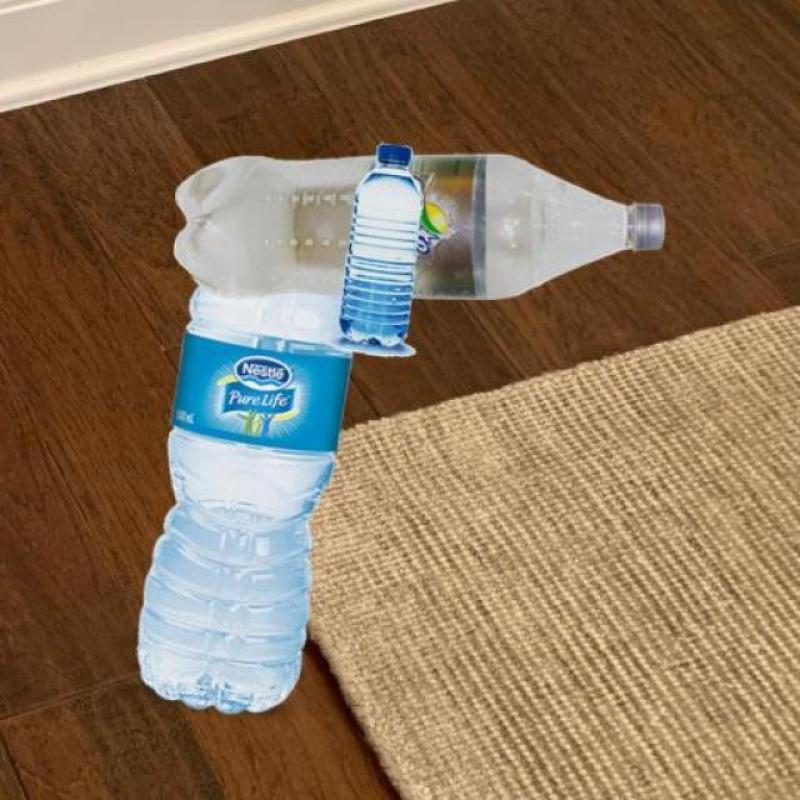botella: (136, 276, 352, 709), (174, 151, 670, 300), (342, 141, 426, 348)
